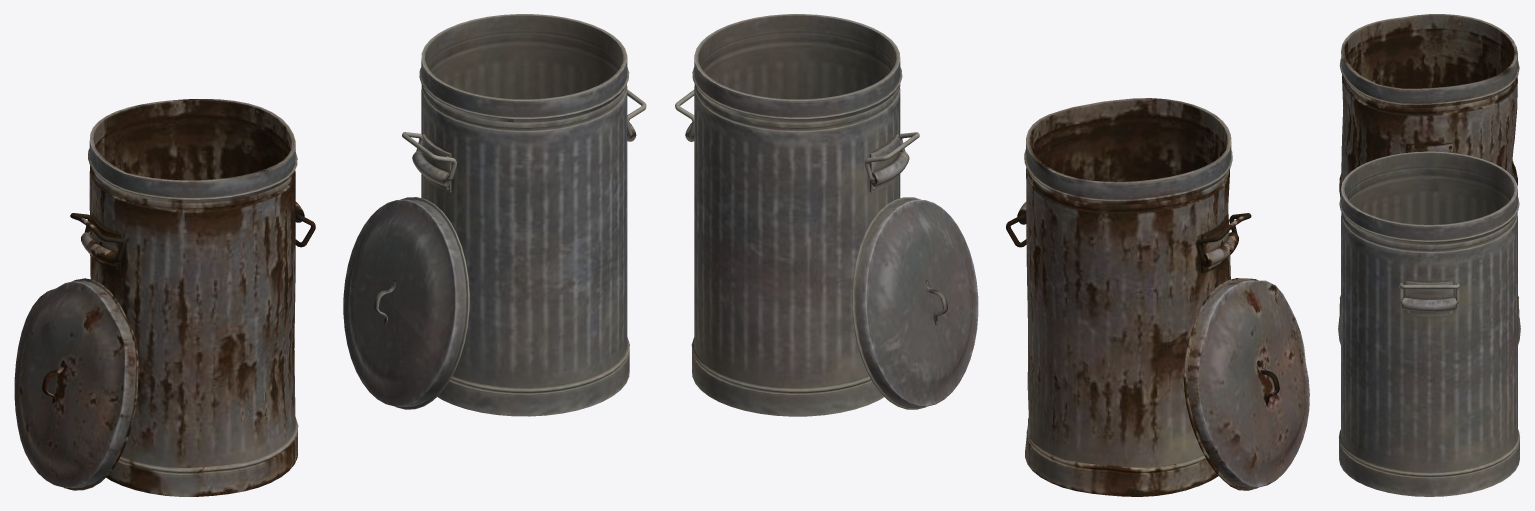
Rendered from metal_trash_can.glb.
3 renders of one model, left to right at view 1: azimuth 30°, elevation 25°; view 2: azimuth 150°, elevation 25°; view 3: azimuth 270°, elevation 25°, orthographic. The views are drawn at different scales.
Visible parts, largest first — view 1: metal_trash_can, metal_trash_can_rust, metal_trash_can_lid, metal_trash_can_rust_lid; view 2: metal_trash_can, metal_trash_can_rust, metal_trash_can_lid, metal_trash_can_rust_lid; view 3: metal_trash_can, metal_trash_can_rust, metal_trash_can_handle_right.
Part boxes in pixels (box(x1,y1,x2,y2)): metal_trash_can: box(412, 14, 636, 416); metal_trash_can_rust: box(81, 99, 304, 496); metal_trash_can_lid: box(343, 197, 469, 409); metal_trash_can_rust_lid: box(14, 278, 138, 490); metal_trash_can: box(685, 14, 909, 416); metal_trash_can_rust: box(1017, 98, 1238, 496); metal_trash_can_lid: box(852, 197, 978, 409); metal_trash_can_rust_lid: box(1183, 278, 1309, 490); metal_trash_can: box(1338, 151, 1519, 496); metal_trash_can_rust: box(1339, 14, 1519, 316); metal_trash_can_handle_right: box(1399, 283, 1459, 303).
Bounding box in the file's own units: 1.78 × 0.9062 × 0.5563.
3 materials, 3 textured.
